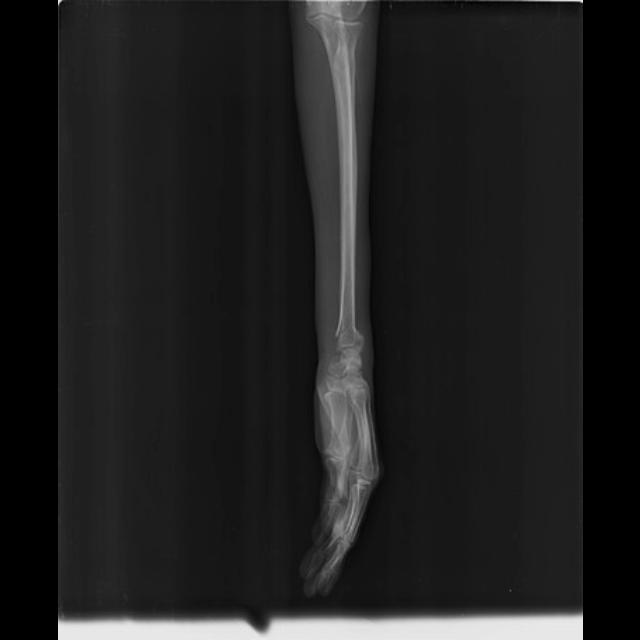Fracture: (330, 318, 357, 341)
